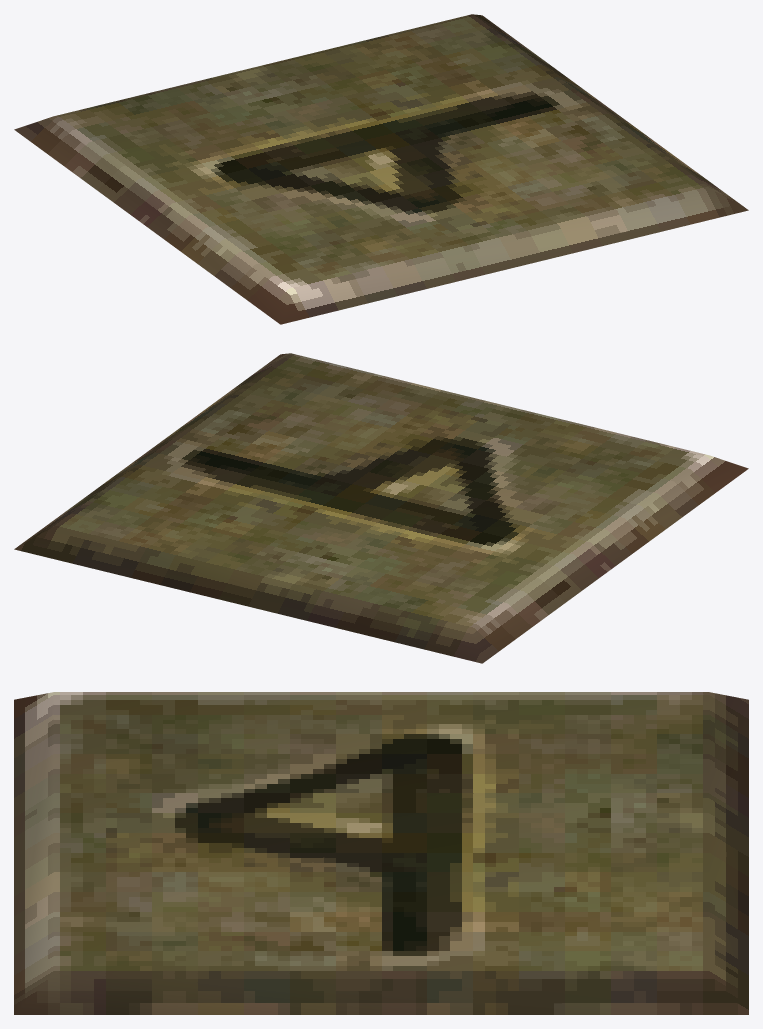
File: EREBOR_RUNE_PZL_EREBOR_PZL_TILE_STATIC12.fbx
3 renders of one model, top to bottom at view 1: azimuth 30°, elevation 25°; view 2: azimuth 150°, elevation 25°; view 3: azimuth 270°, elevation 25°, orthographic. The views are drawn at different scales.
Visible parts, largest first — view 1: EREBOR_RUNE_PZL_EREBOR_PZL_TILE_STATIC12; view 2: EREBOR_RUNE_PZL_EREBOR_PZL_TILE_STATIC12; view 3: EREBOR_RUNE_PZL_EREBOR_PZL_TILE_STATIC12.
Part boxes in pixels (x1,y1,x2,y2): EREBOR_RUNE_PZL_EREBOR_PZL_TILE_STATIC12: (14,14,748,324); EREBOR_RUNE_PZL_EREBOR_PZL_TILE_STATIC12: (14,353,748,663); EREBOR_RUNE_PZL_EREBOR_PZL_TILE_STATIC12: (14,692,748,1014).
Size of the model in its own units: 10240 by 370 by 10093.
Materials: 1 (1 with a texture image).
